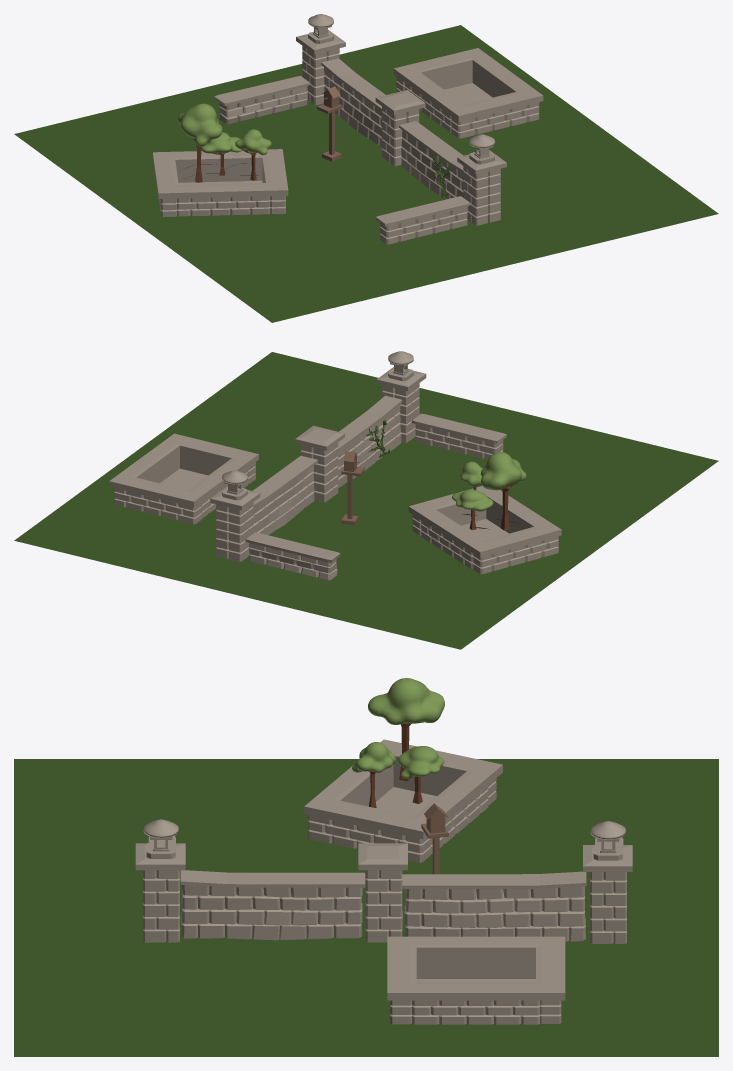
File: assets jardin2.fbx
3 renders of one model, top to bottom at view 1: azimuth 30°, elevation 25°; view 2: azimuth 150°, elevation 25°; view 3: azimuth 270°, elevation 25°, orthographic. The views are drawn at different scales.
Visible parts, largest first — view 1: ground, bloc jardin, bloc fleurs vide pour illu, grand muret avec lierre, pillier avec lampe, grand muret, petit muret tordu, petit muret, pillier avec lampe 2, pilier, nichoir; view 2: ground, bloc jardin, bloc fleurs vide pour illu, grand muret, grand muret avec lierre, pillier avec lampe 2, petit muret tordu, petit muret, pillier avec lampe, pilier, nichoir; view 3: ground, bloc jardin, bloc fleurs vide pour illu, grand muret avec lierre, grand muret, pillier avec lampe, pillier avec lampe 2, pilier, nichoir.
Boxes of the visible parts, left/top/right/bottom form: ground: left=14, top=25, right=718, bottom=322; bloc jardin: left=153, top=103, right=288, bottom=217; bloc fleurs vide pour illu: left=393, top=48, right=543, bottom=138; grand muret avec lierre: left=399, top=121, right=463, bottom=199; pillier avec lampe: left=457, top=134, right=506, bottom=225; grand muret: left=321, top=58, right=385, bottom=146; petit muret tordu: left=214, top=76, right=309, bottom=124; petit muret: left=375, top=196, right=470, bottom=244; pillier avec lampe 2: left=296, top=14, right=345, bottom=105; pilier: left=375, top=90, right=425, bottom=166; nichoir: left=317, top=86, right=342, bottom=161; ground: left=14, top=352, right=718, bottom=649; bloc jardin: left=408, top=452, right=561, bottom=574; bloc fleurs vide pour illu: left=109, top=433, right=258, bottom=524; grand muret: left=253, top=455, right=317, bottom=534; grand muret avec lierre: left=337, top=395, right=402, bottom=487; pillier avec lampe 2: left=210, top=470, right=260, bottom=561; petit muret tordu: left=245, top=532, right=340, bottom=580; petit muret: left=412, top=413, right=506, bottom=459; pillier avec lampe: left=376, top=351, right=426, bottom=442; pilier: left=295, top=425, right=344, bottom=502; nichoir: left=341, top=451, right=364, bottom=525; ground: left=14, top=759, right=718, bottom=1056; bloc jardin: left=304, top=678, right=502, bottom=862; bloc fleurs vide pour illu: left=387, top=936, right=565, bottom=1024; grand muret avec lierre: left=180, top=870, right=365, bottom=940; grand muret: left=402, top=871, right=586, bottom=941; pillier avec lampe: left=135, top=819, right=185, bottom=942; pillier avec lampe 2: left=583, top=821, right=632, bottom=943; pilier: left=358, top=843, right=407, bottom=942; nichoir: left=421, top=803, right=448, bottom=874.
Size of the model in its own units: 5169 by 1060 by 5169.
